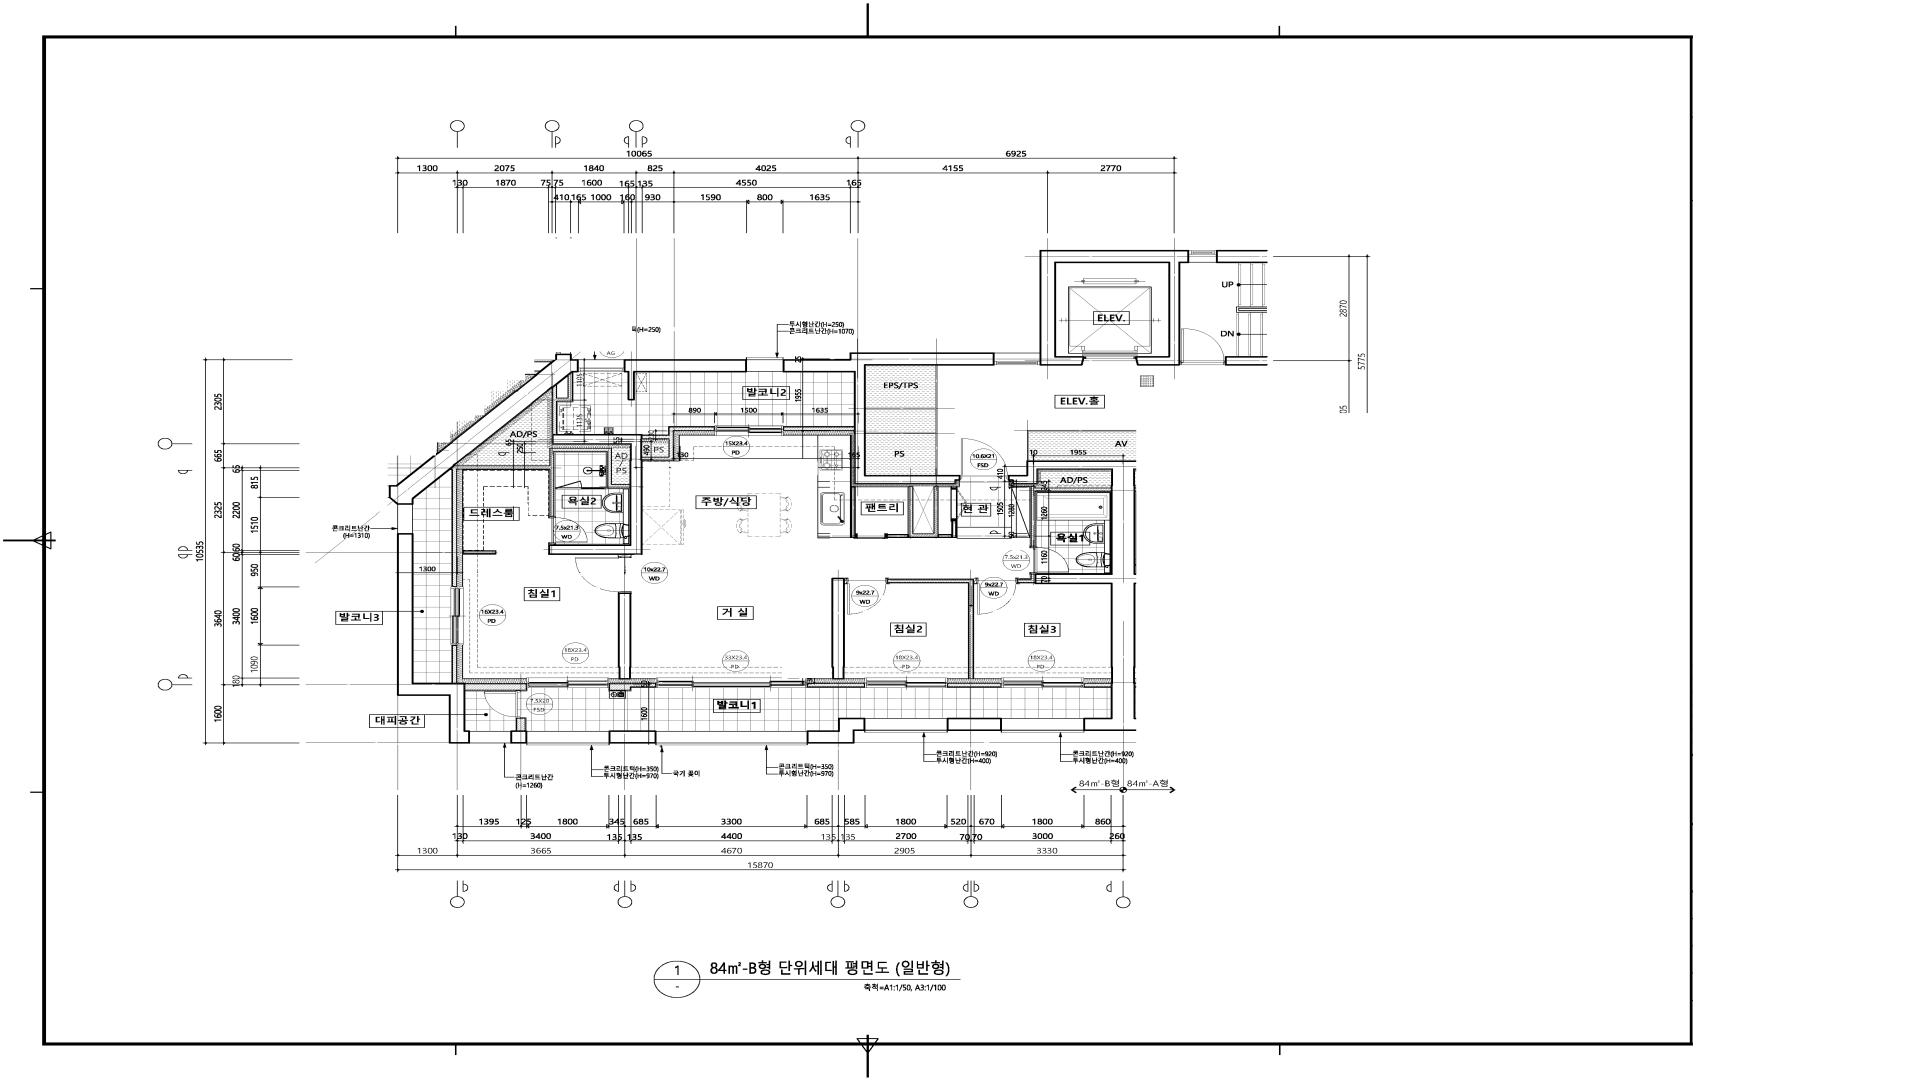door: (575, 556, 632, 593), (960, 438, 1009, 479), (1180, 328, 1225, 365), (845, 578, 887, 615), (975, 578, 1017, 615), (549, 517, 588, 545), (1030, 546, 1069, 574), (484, 691, 521, 719), (951, 488, 967, 521), (856, 533, 887, 539), (558, 481, 582, 489)
wall: (1009, 460, 1135, 731), (389, 353, 579, 505), (783, 352, 994, 484), (450, 448, 629, 587), (1039, 249, 1189, 365), (397, 533, 469, 744), (549, 434, 642, 555), (887, 579, 975, 679), (866, 365, 938, 475), (624, 359, 746, 401), (1031, 487, 1110, 546), (1027, 430, 1137, 460), (642, 426, 715, 462), (909, 487, 939, 538), (807, 717, 864, 744), (831, 578, 845, 679), (551, 372, 574, 434), (618, 593, 632, 679), (947, 717, 1001, 731), (1216, 251, 1267, 264), (609, 731, 655, 744), (465, 683, 526, 691), (1225, 356, 1267, 365), (609, 683, 657, 691), (783, 426, 853, 431), (939, 521, 957, 538), (807, 683, 865, 688), (947, 683, 1001, 688), (851, 487, 856, 538), (451, 645, 458, 683), (1017, 574, 1035, 584), (512, 731, 526, 744), (462, 550, 496, 555), (1084, 683, 1110, 688), (516, 719, 526, 731), (887, 534, 909, 538), (582, 487, 607, 489), (618, 555, 632, 556), (951, 487, 957, 488), (555, 487, 558, 489)
window: (655, 731, 807, 745), (657, 678, 807, 688), (526, 731, 609, 745), (864, 719, 948, 732), (1001, 719, 1084, 732), (526, 678, 609, 688), (1001, 678, 1084, 688), (865, 678, 947, 688), (451, 587, 463, 645), (715, 426, 783, 435), (469, 731, 512, 744), (746, 357, 783, 372), (994, 353, 1039, 365), (579, 360, 624, 372), (397, 505, 413, 534), (1189, 251, 1216, 262)
